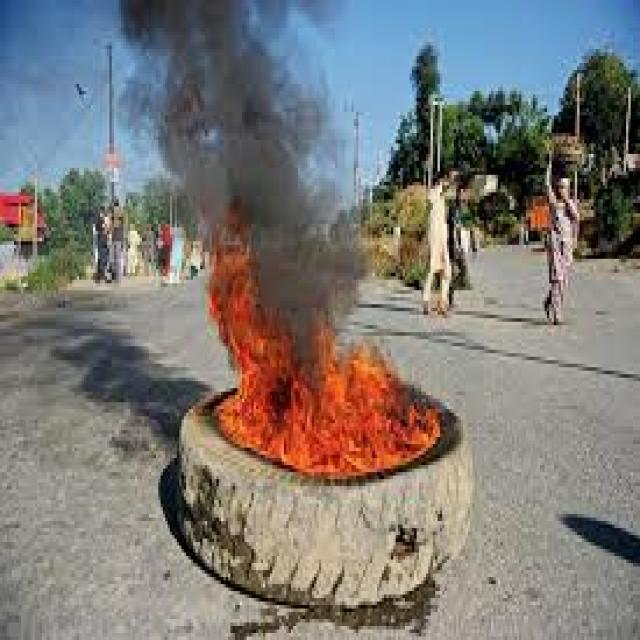Fire: (216, 322, 438, 470), (207, 240, 260, 322)
Smoke: (120, 0, 332, 158), (260, 156, 362, 322), (178, 158, 362, 241)
